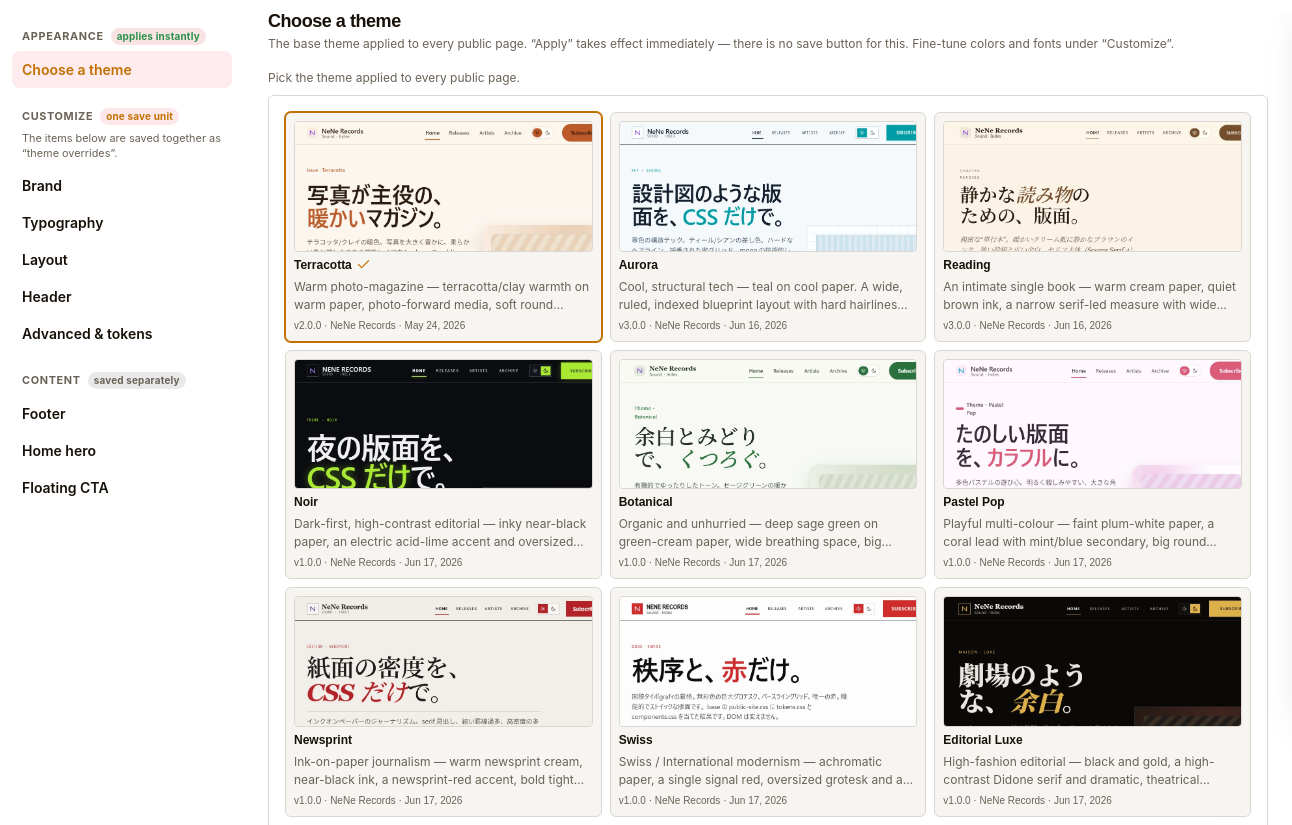
ThemeWorkspace (#787 IA redesign) › unifies the header section: content view + appearance disclosure
Click the button "Header" at point(122, 297), box [12,278,232,315]
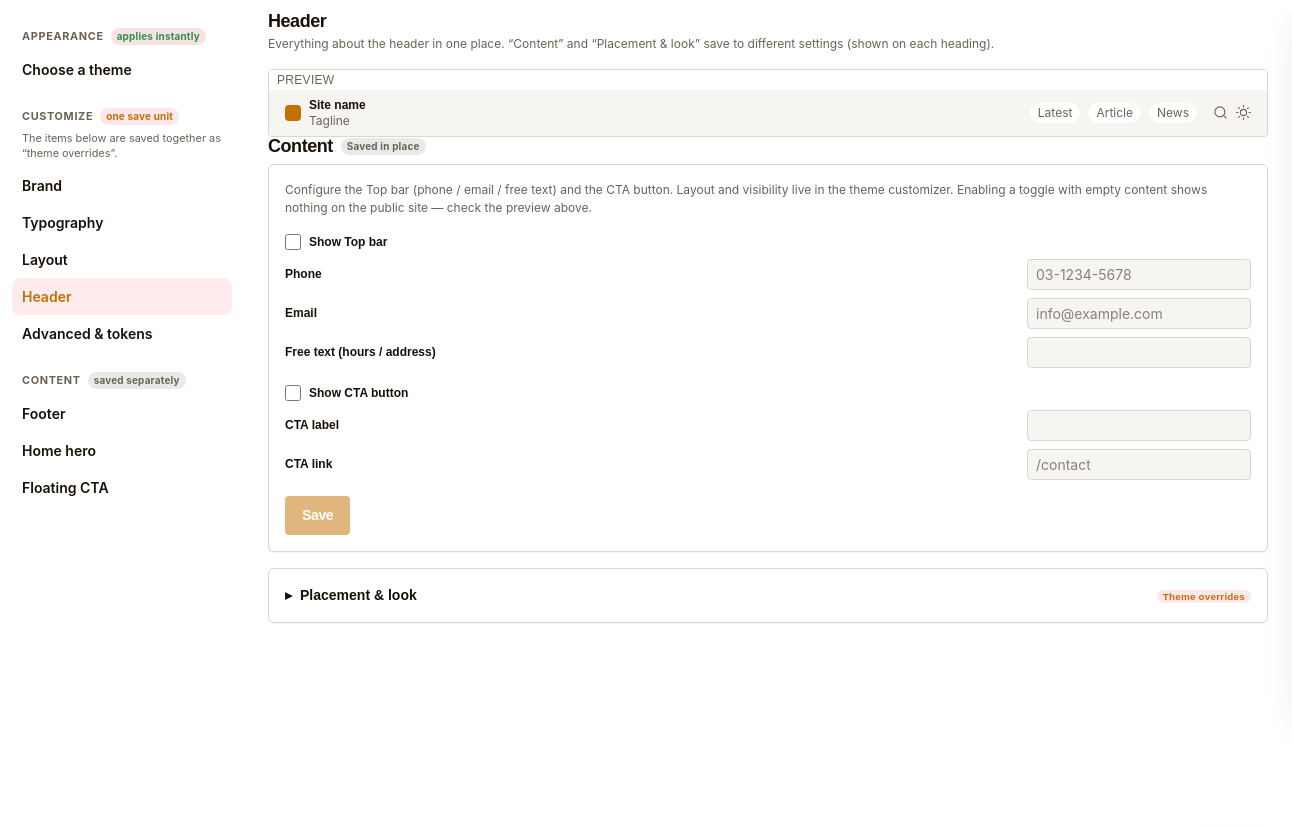
Expected: the text "Show Top bar" is shown, [309,233,388,251]
Click the button "▸ Placement & look Theme overrides" at point(358, 595), box [269,569,1267,622]
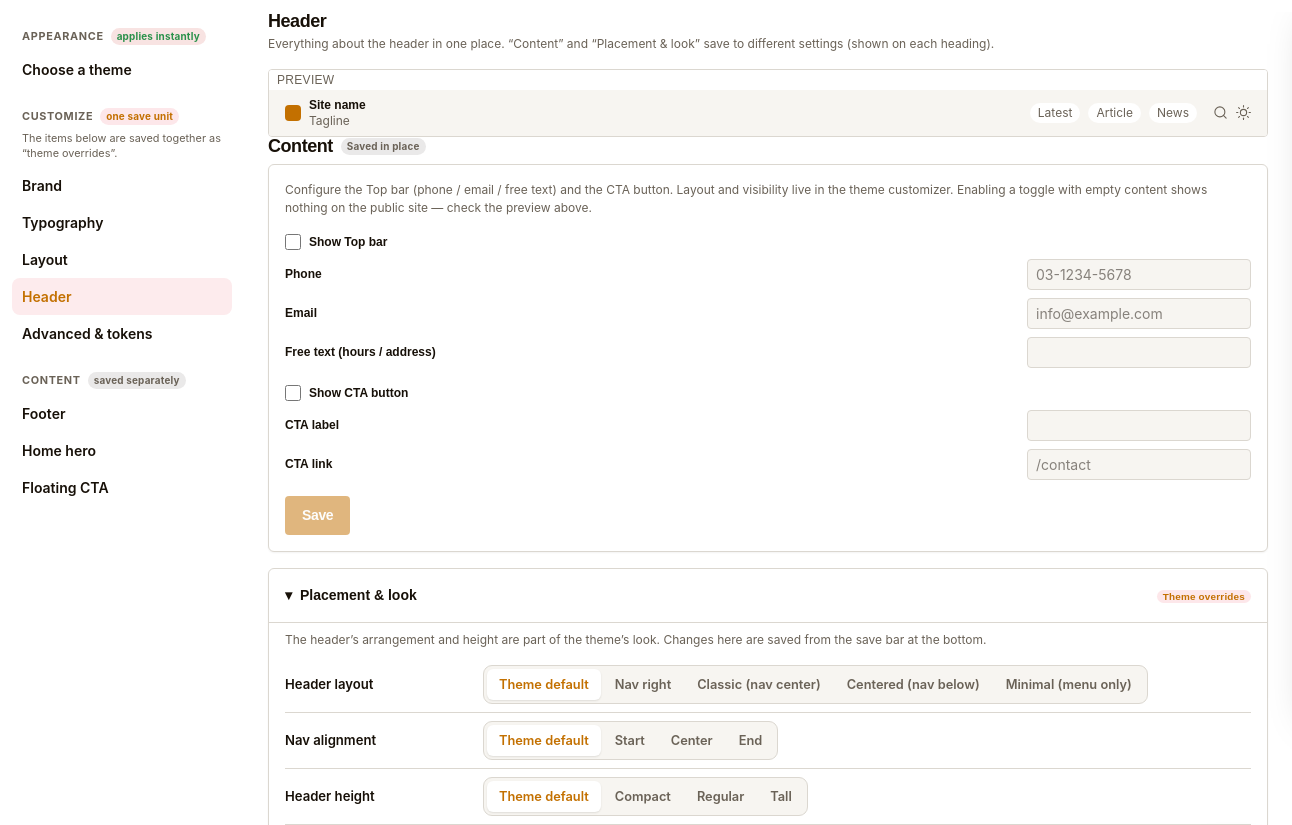
Expected: the text "Header layout" is shown, [285,676,374,692]
